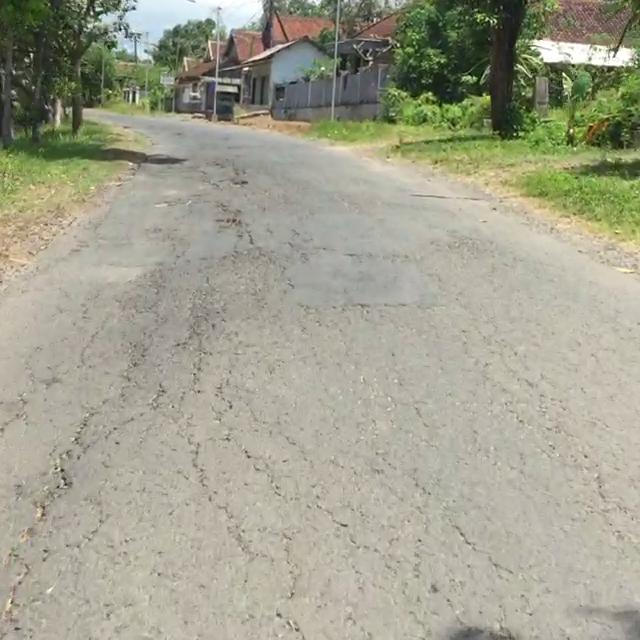retak_memanjang: (0, 407, 101, 640), (150, 377, 260, 571), (278, 614, 345, 640)
